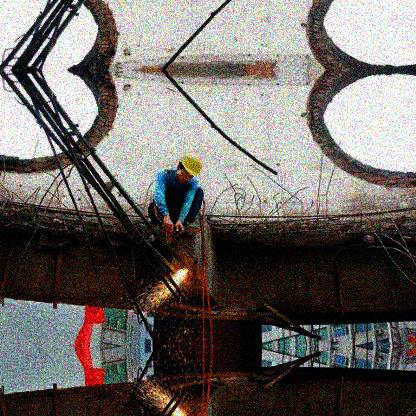helmet: (175, 153, 202, 183)
